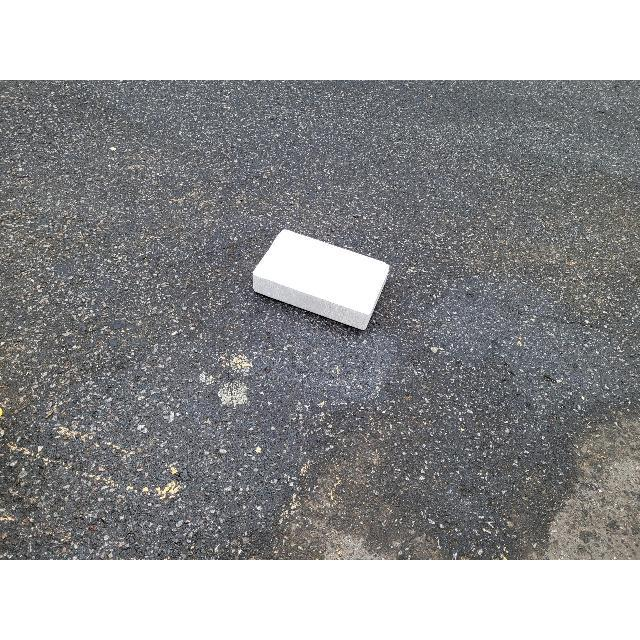Plastico descartable: (255, 218, 398, 332)
